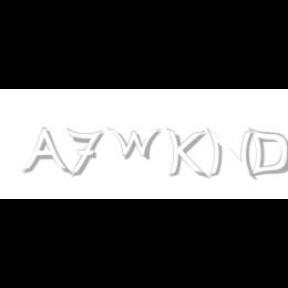7: (66, 128, 104, 178)
A: (21, 128, 69, 176)
D: (248, 128, 288, 178)
K: (166, 128, 206, 180)
N: (206, 128, 254, 180)
w: (106, 128, 166, 160)
